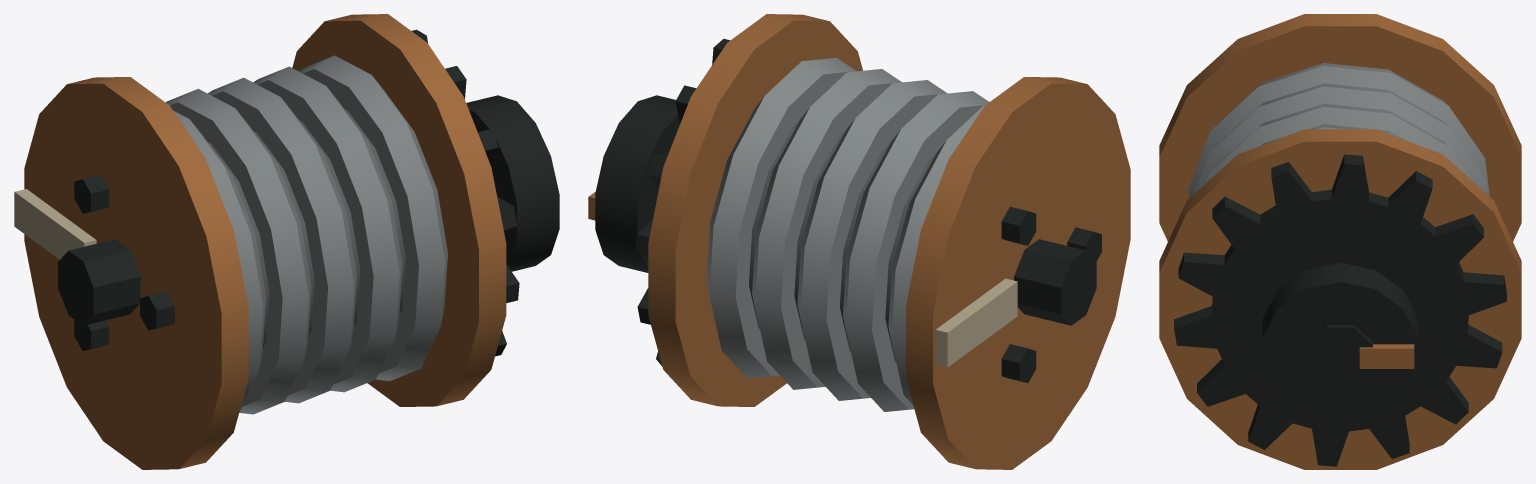
Rendered from grapple_sable_drive.glb.
3 views of the same model, side by side, from view 1: azimuth 30°, elevation 25°; view 2: azimuth 150°, elevation 25°; view 3: azimuth 270°, elevation 25° (orthographic). The views are drawn at different scales.
Visible parts, largest first — view 1: Drive; view 2: Drive; view 3: Drive.
Boxes of the visible parts, x1,y1,x2,y2 form: Drive: (14,14,559,469); Drive: (588,14,1130,469); Drive: (1159,14,1521,469).
Bounding box in the file's own units: 0.297 × 0.2256 × 0.2256.
